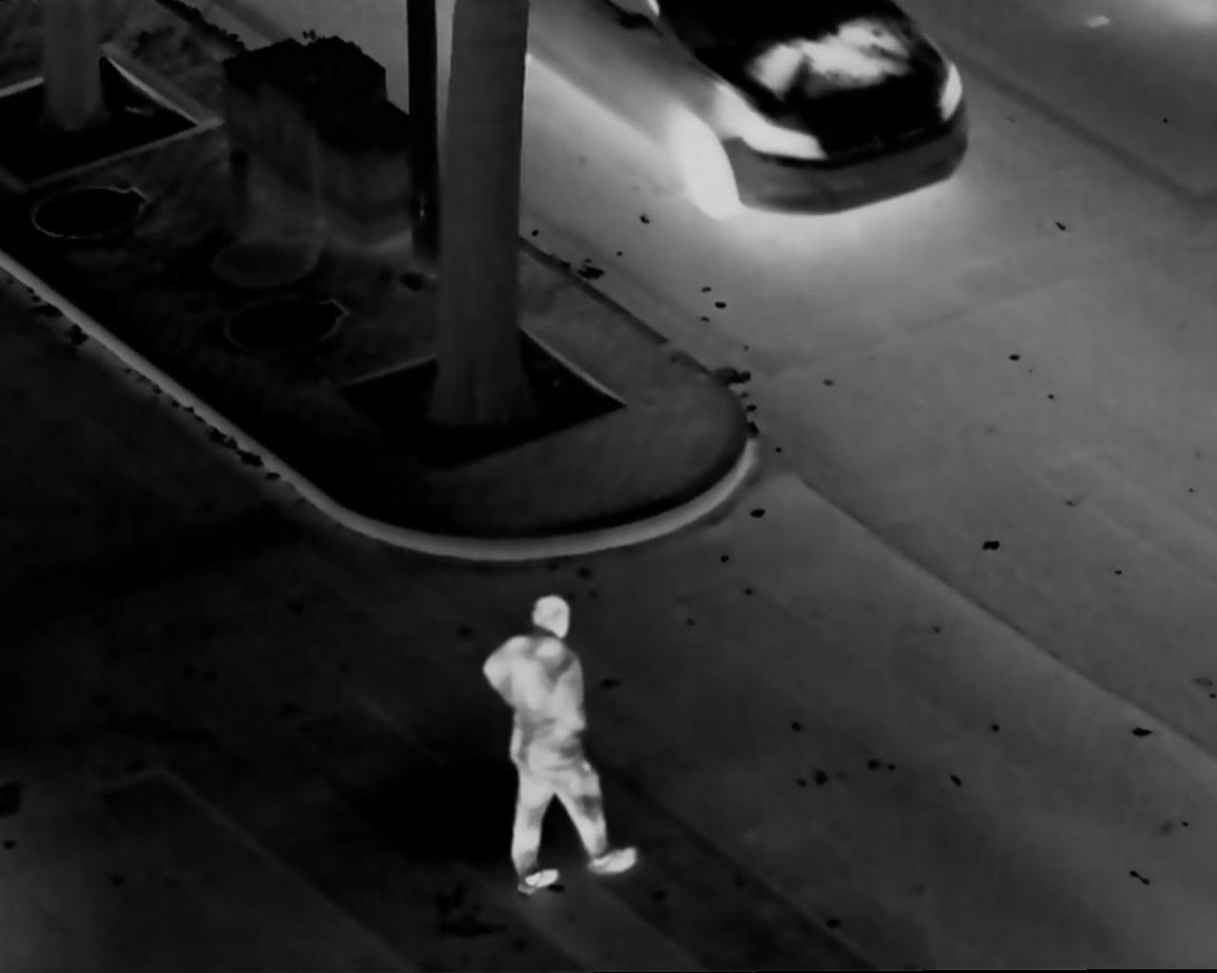person: (483, 594, 639, 896)
